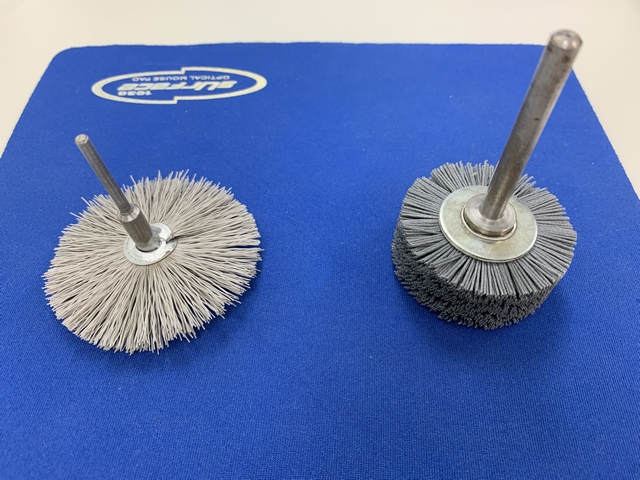TOOL: (37, 123, 287, 366), (75, 119, 295, 374), (33, 122, 243, 367), (58, 133, 231, 334)
Wheel Brush: (384, 27, 592, 333), (430, 30, 589, 331), (456, 27, 587, 331)
